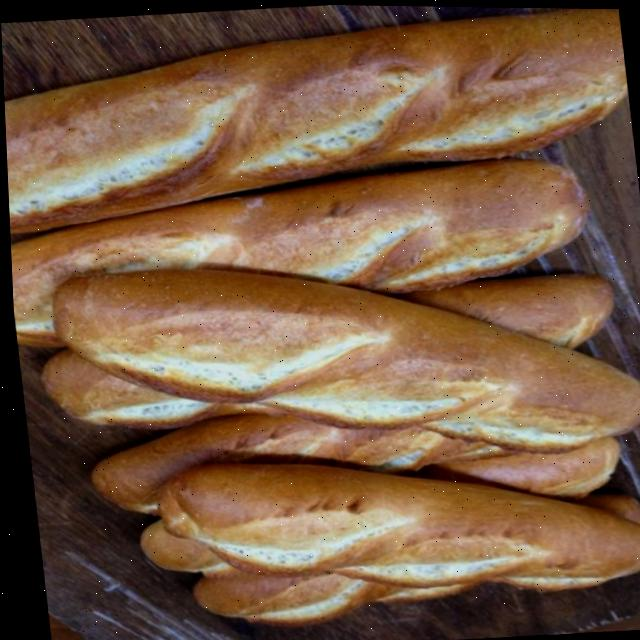汤锅炖物: (574, 229, 640, 494)
米饭主食: (6, 168, 367, 499)
蔬菜料理: (241, 325, 640, 640)
